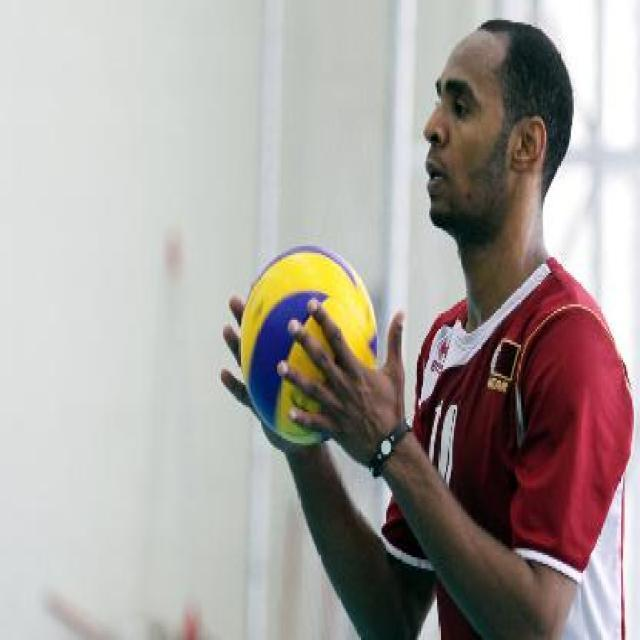volleyball: (240, 248, 376, 444)
